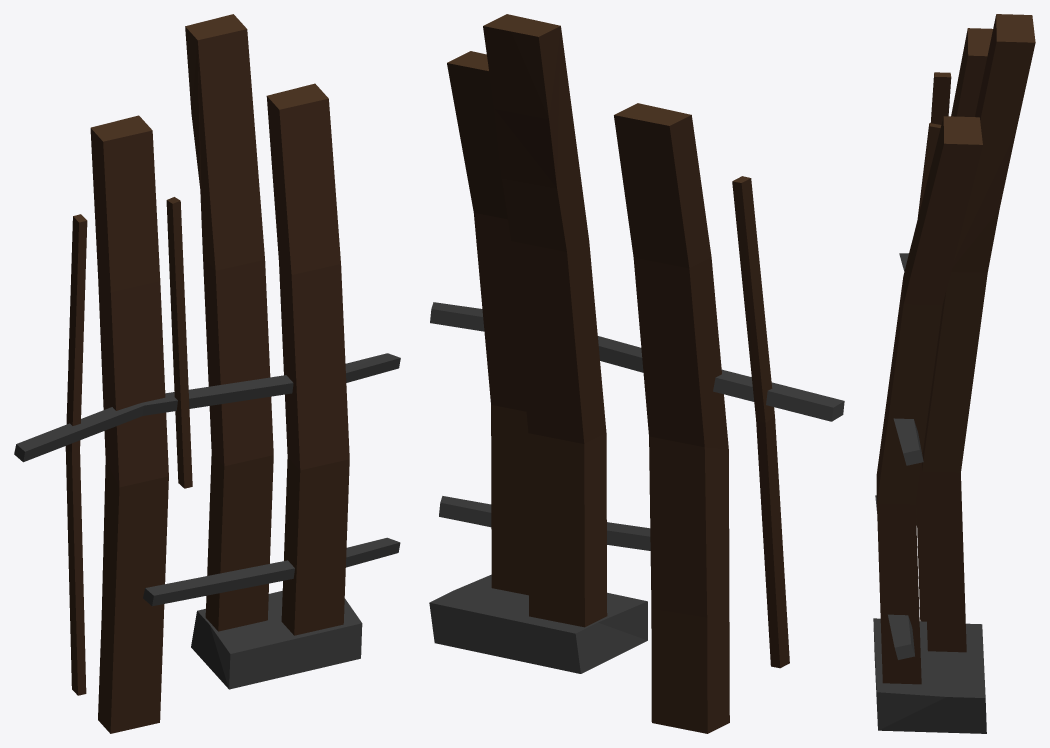
The model's file is Cave_Lair_Wooden_Timber_Metal_Hull_Broken_Junk_01.fbx.
3 renders of one model, left to right at view 1: azimuth 30°, elevation 25°; view 2: azimuth 150°, elevation 25°; view 3: azimuth 270°, elevation 25°, orthographic. The views are drawn at different scales.
Parts seen in each view (by area): view 1: Cave_Lair_Wooden_Timber_Metal_Hull_Broken_Junk_01; view 2: Cave_Lair_Wooden_Timber_Metal_Hull_Broken_Junk_01; view 3: Cave_Lair_Wooden_Timber_Metal_Hull_Broken_Junk_01.
Part boxes in pixels (x1,y1,x2,y2): Cave_Lair_Wooden_Timber_Metal_Hull_Broken_Junk_01: [14, 14, 400, 733]; Cave_Lair_Wooden_Timber_Metal_Hull_Broken_Junk_01: [429, 14, 844, 733]; Cave_Lair_Wooden_Timber_Metal_Hull_Broken_Junk_01: [873, 14, 1035, 733].
Bounding box in the file's own units: 3.48 × 5.65 × 1.19.
